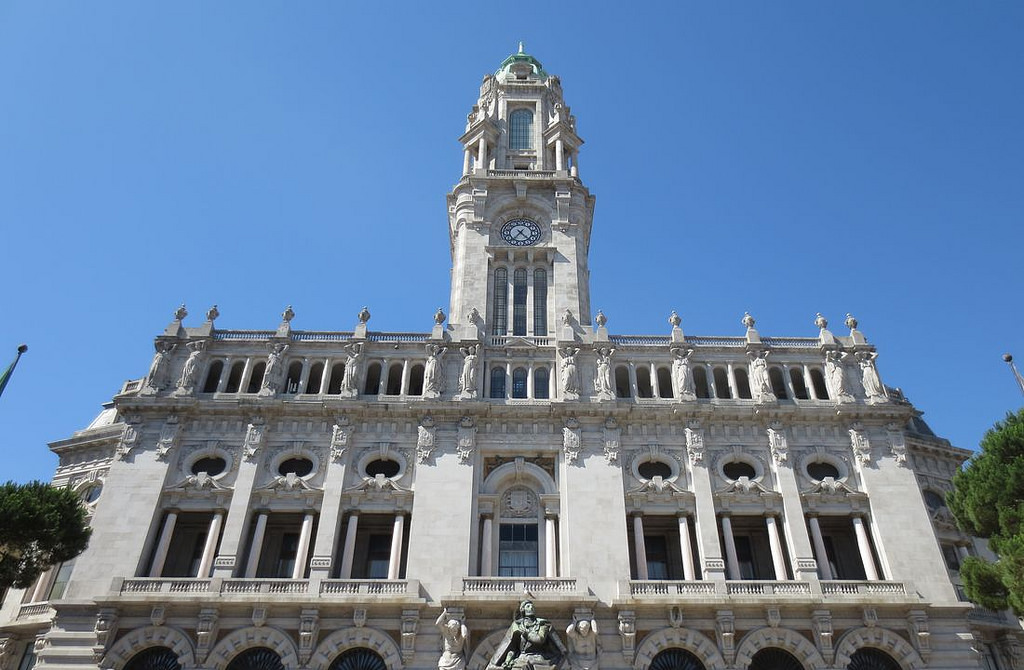camara: (0, 38, 1023, 669)
